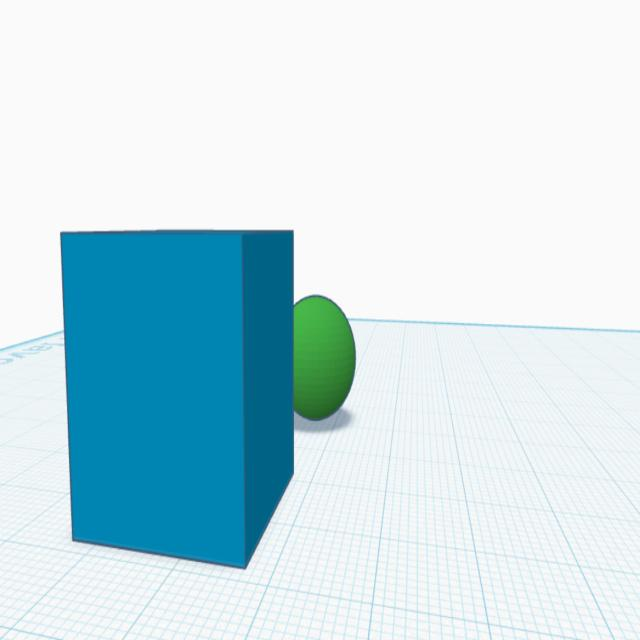cube: (54, 218, 300, 571)
